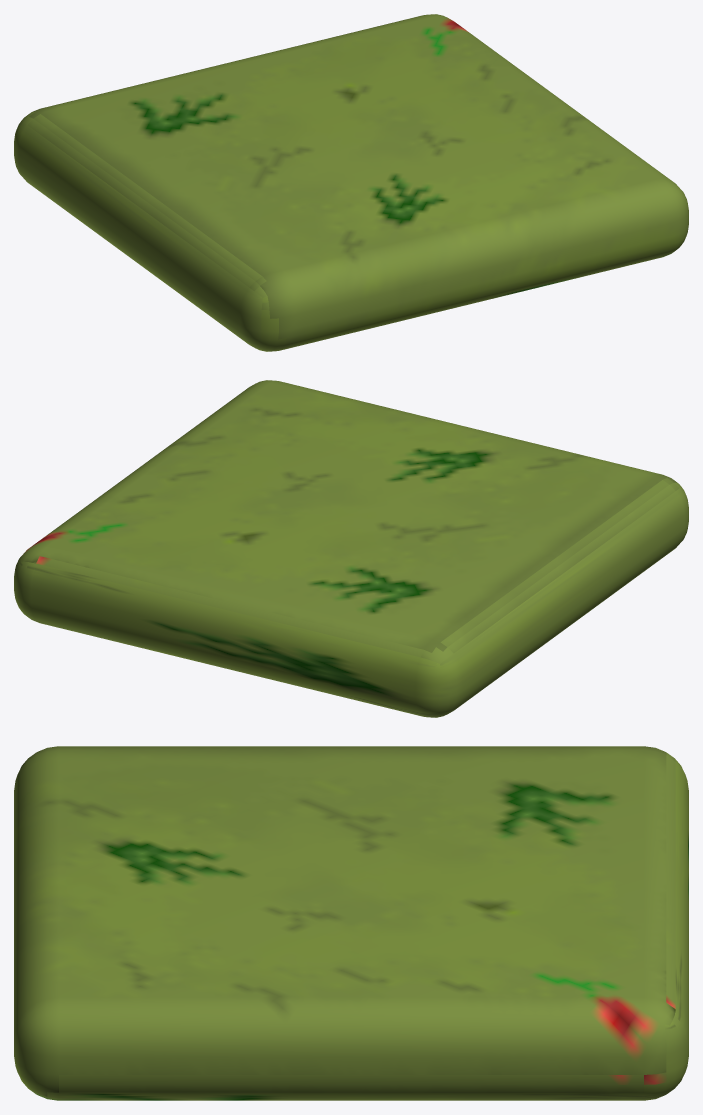
Rendered from tile.1.0.fbx.
3 views of the same model, one above another, from view 1: azimuth 30°, elevation 25°; view 2: azimuth 150°, elevation 25°; view 3: azimuth 270°, elevation 25° (orthographic). The views are drawn at different scales.
Parts seen in each view (by area): view 1: Cube; view 2: Cube; view 3: Cube.
Part boxes in pixels (left/top/right/bottom): Cube: left=14, top=14, right=688, bottom=351; Cube: left=14, top=380, right=688, bottom=717; Cube: left=14, top=746, right=688, bottom=1100.
Bounding box in the file's own units: 200 × 32.47 × 200.
